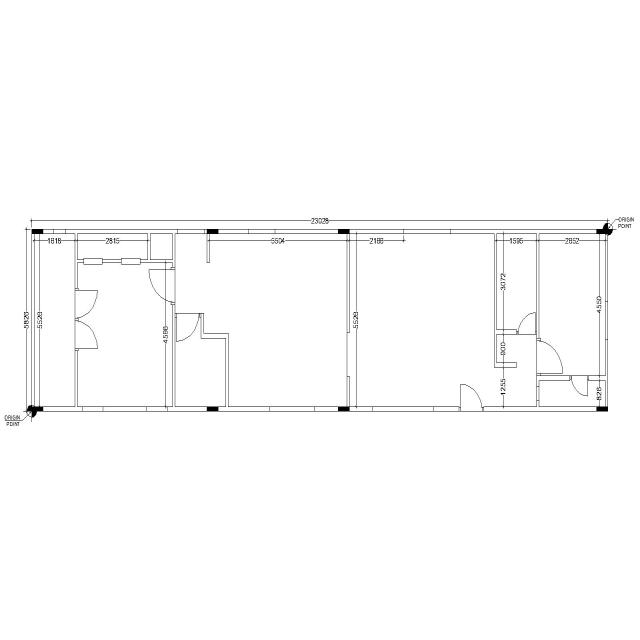Column: (596, 406, 608, 412), (338, 406, 350, 412), (207, 406, 218, 412), (32, 406, 43, 412), (596, 229, 608, 234), (338, 229, 350, 234), (32, 229, 43, 234), (207, 229, 218, 234)
Door: (148, 266, 176, 306), (536, 337, 564, 377), (174, 312, 202, 342), (458, 383, 484, 413), (516, 311, 537, 335), (569, 375, 589, 397)
Double-Door: (73, 286, 100, 354)
Window: (120, 257, 141, 265), (83, 257, 103, 265)
